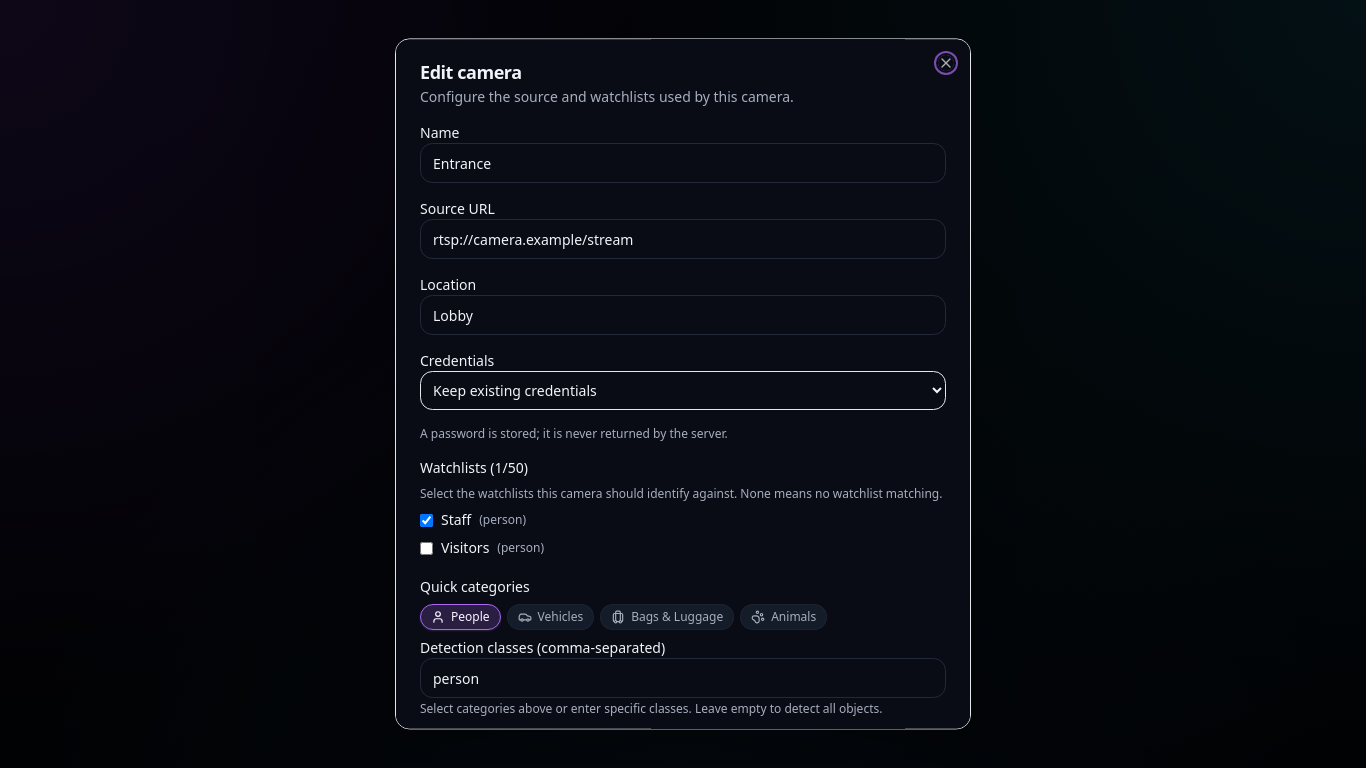
Scenario: failed save retains entered values and keeps the editor open
Replace the text in the field labelled "Name" with "Changed name". click: (683, 163)
box: x1=420 y1=143 x2=946 y2=183
(page scrolled)
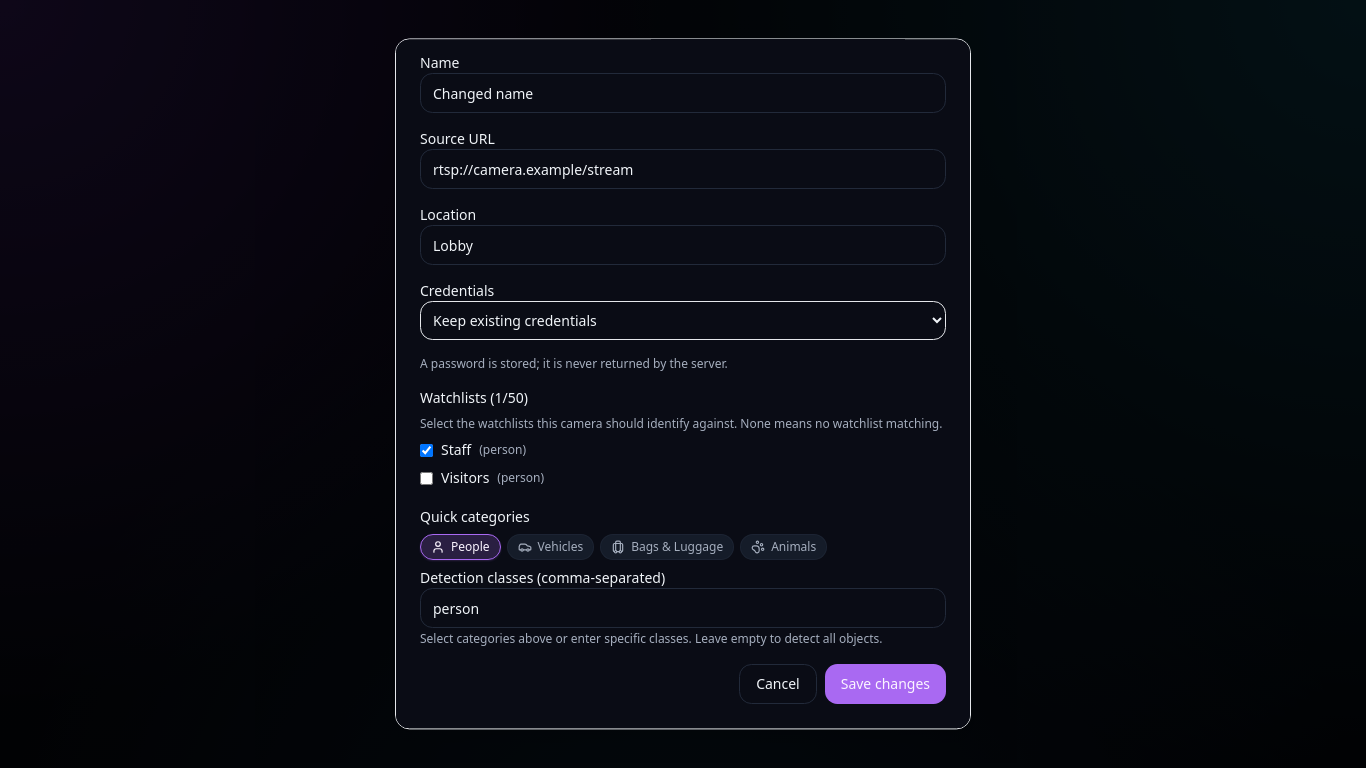
Click the button "Save changes". click: (885, 684)
box: x1=825 y1=664 x2=946 y2=704
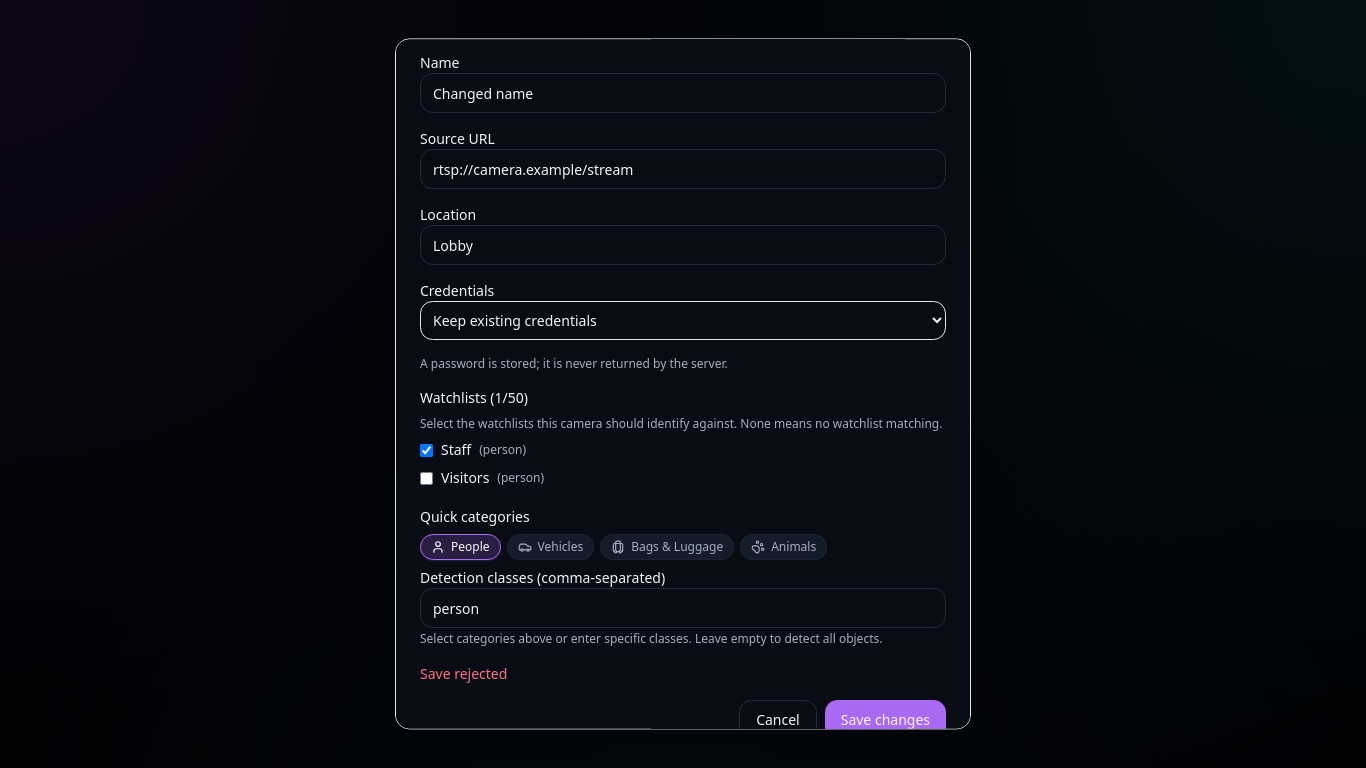
Expected: the message reads "Save rejected", x1=420 y1=664 x2=507 y2=683
